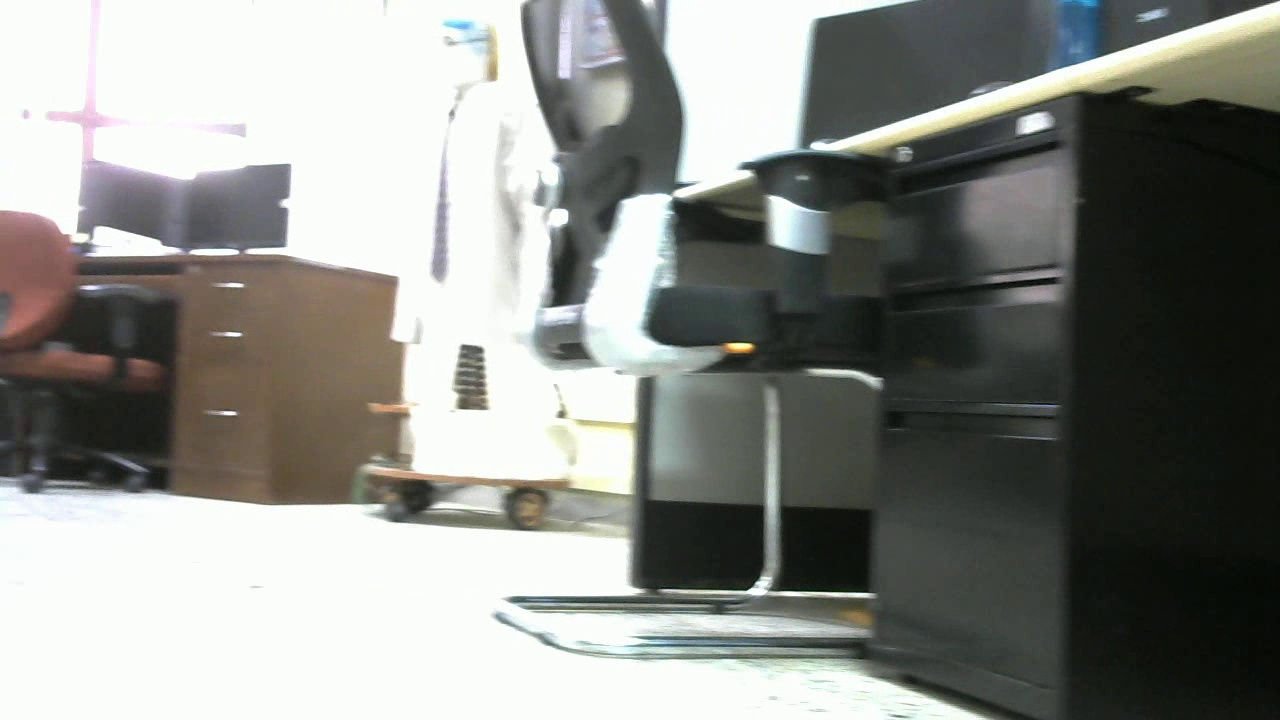chair: (490, 1, 906, 664), (1, 206, 161, 494)
